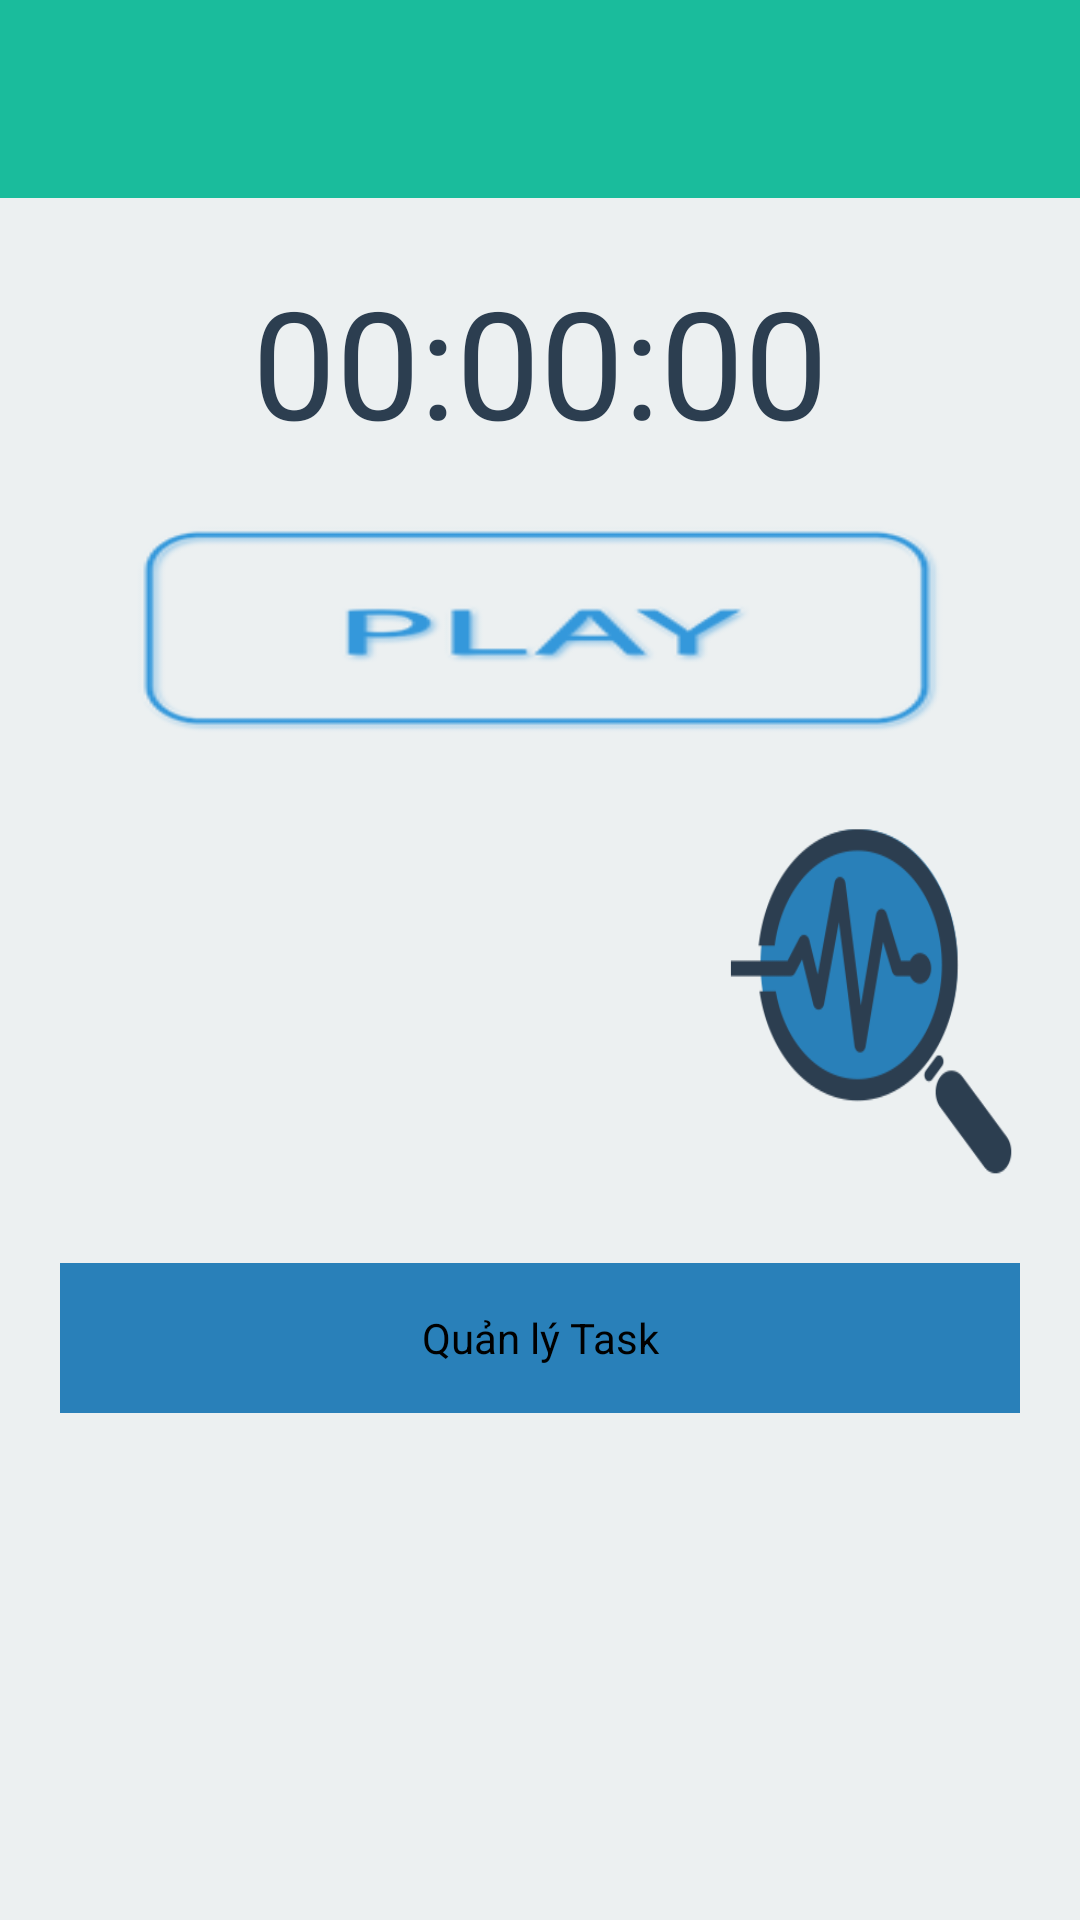

Icon bounding boxes for this 1080 × 1920 phone screenshot, format rect(x1, y1, x2, y2):
analyse: rect(731, 829, 1012, 1174)
